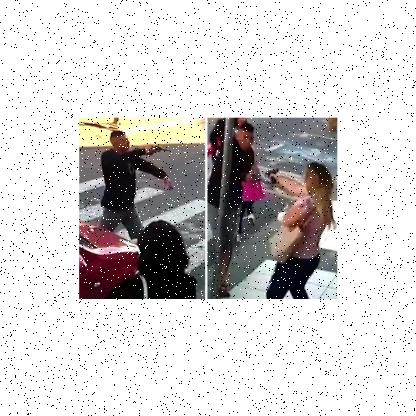gun: (142, 141, 172, 157), (262, 166, 278, 184)
